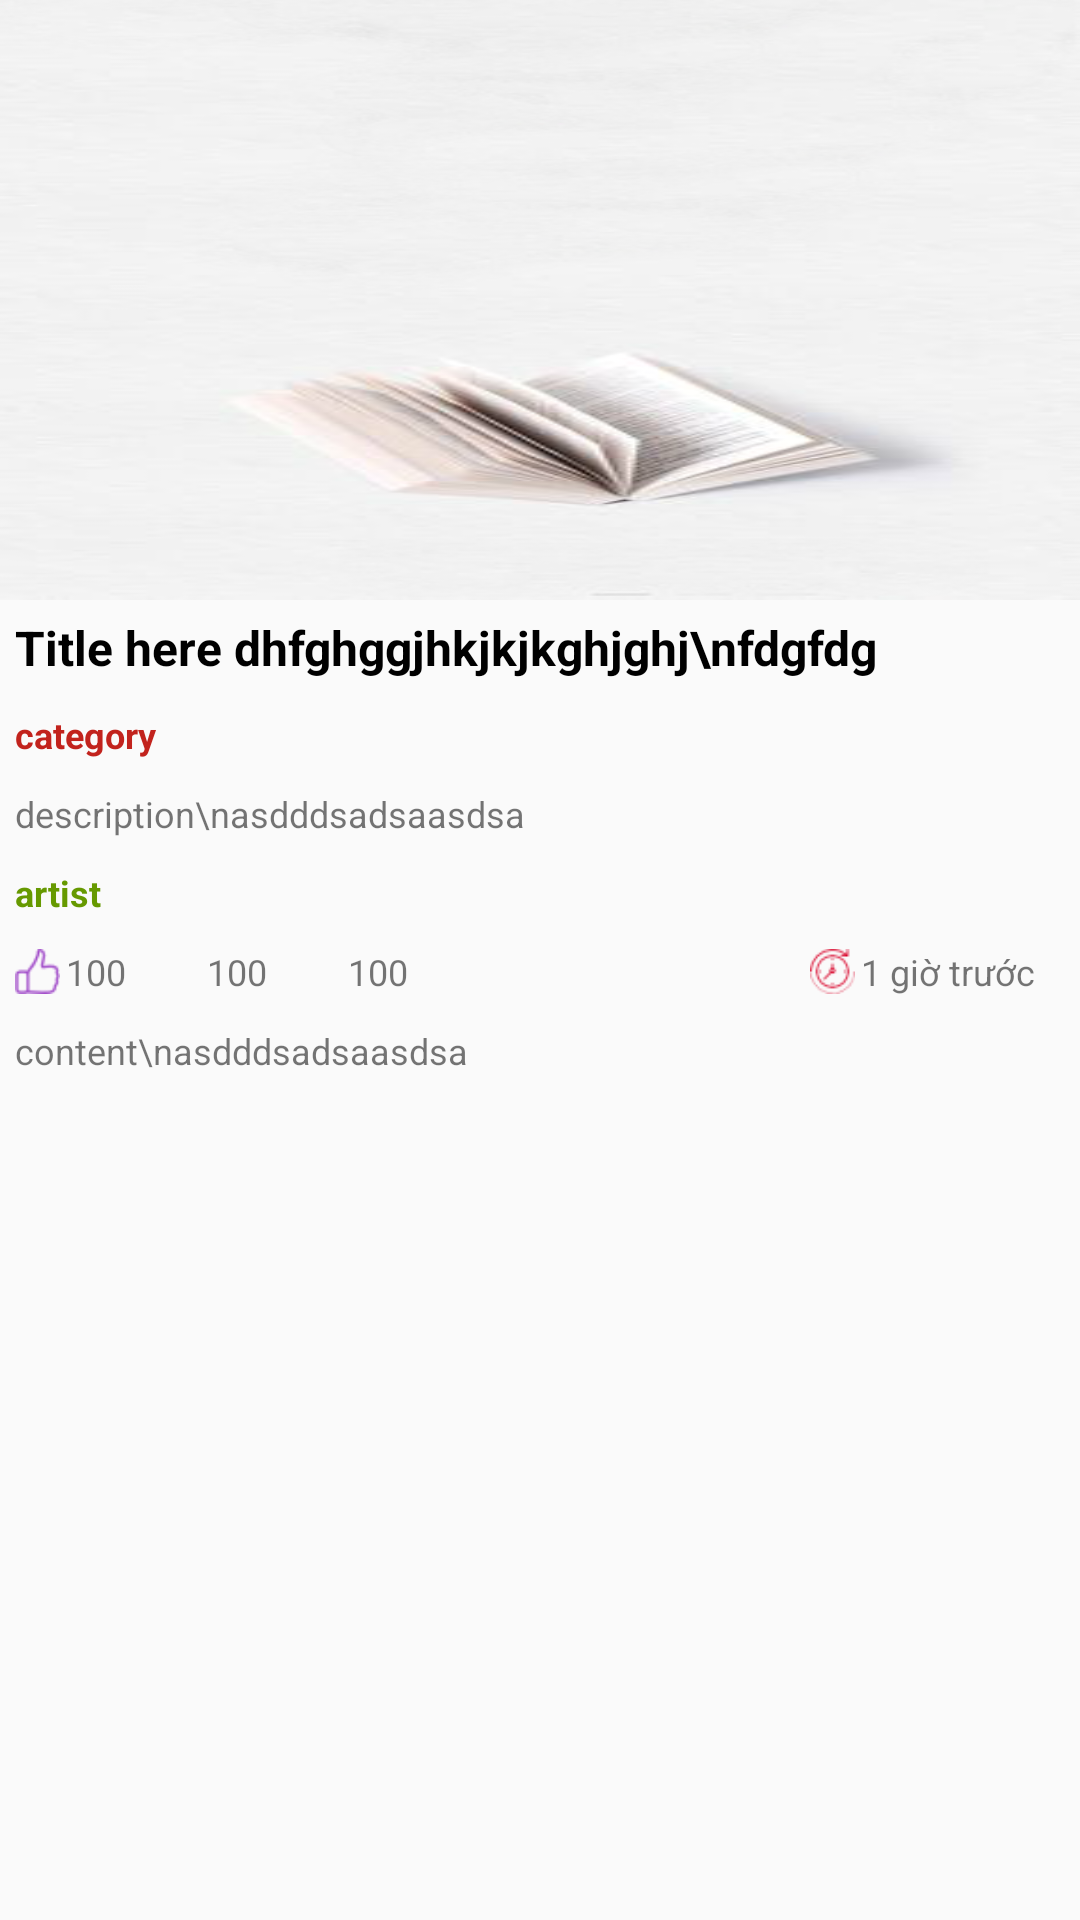

Screen size 1080*1920. Icon name, then its box in pixels as BBox(x1, y1, x2, y2):
like: BBox(15, 949, 60, 994)
time passing: BBox(810, 949, 855, 994)
